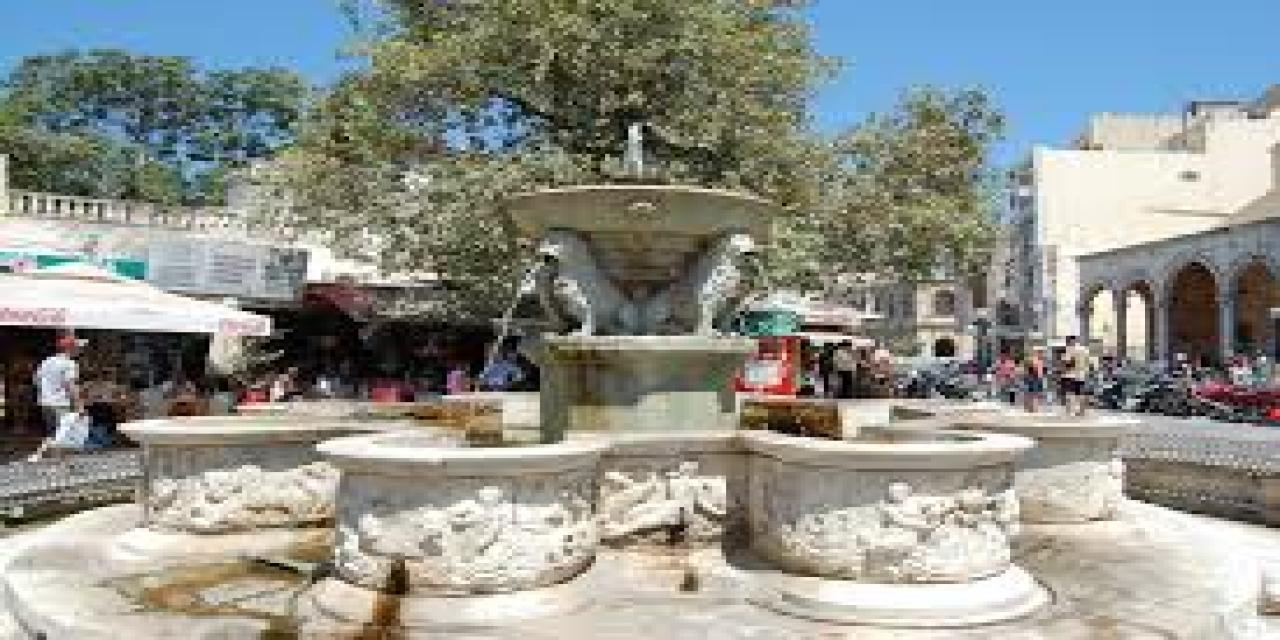Liontaria: (123, 168, 1144, 621)
